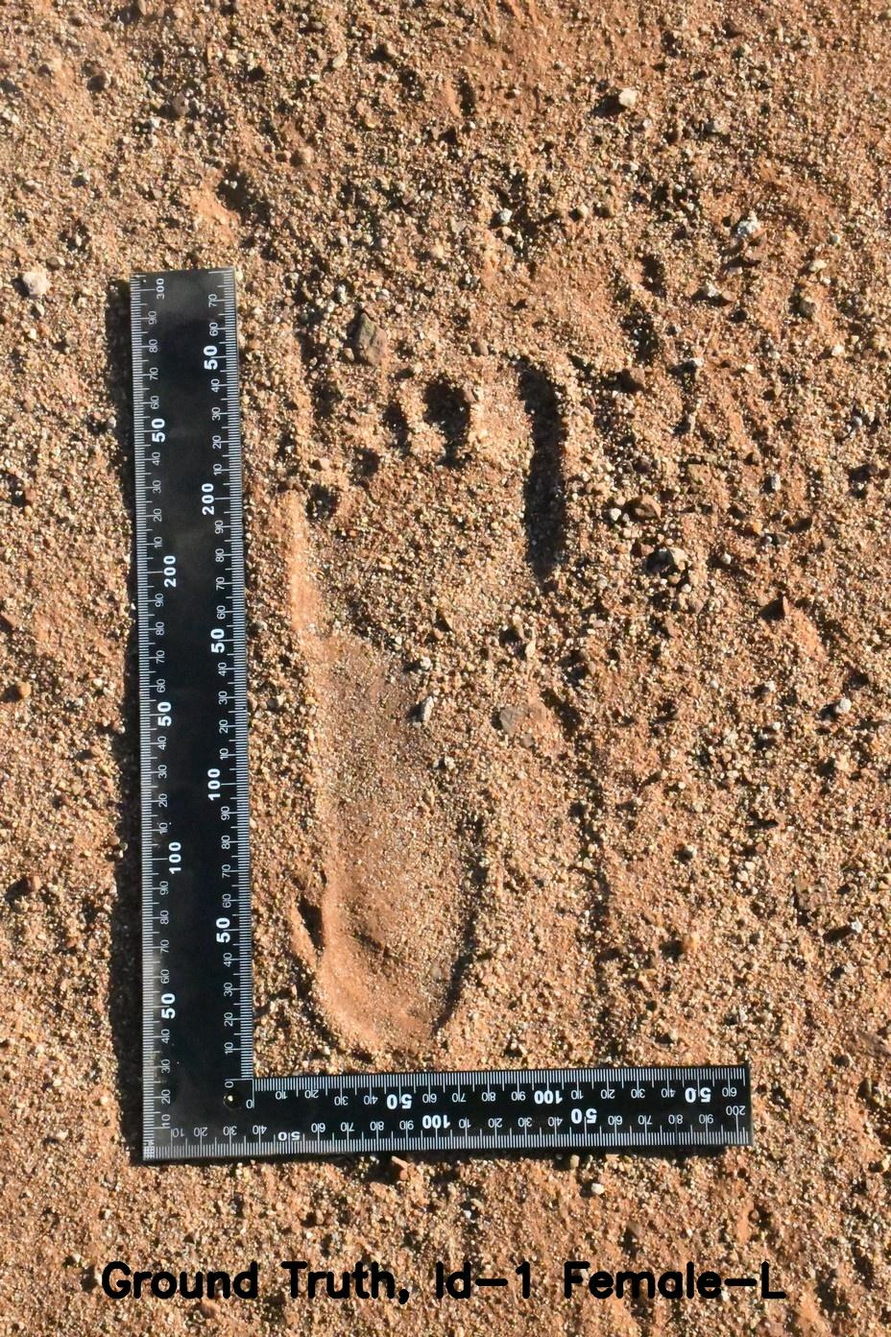human_foot_print: (269, 292, 666, 1069)
